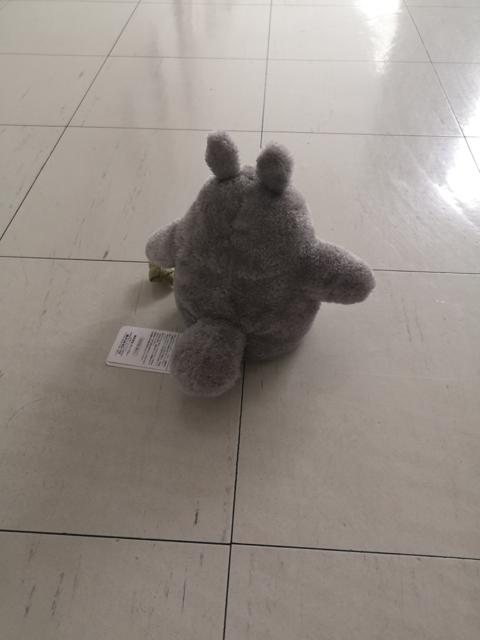totoro: (141, 123, 382, 398)
